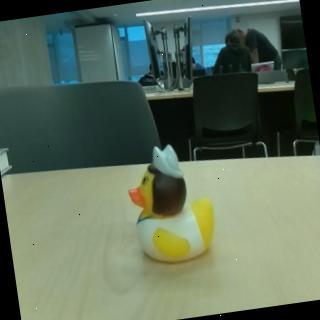duck_specialty: (121, 137, 222, 270)
